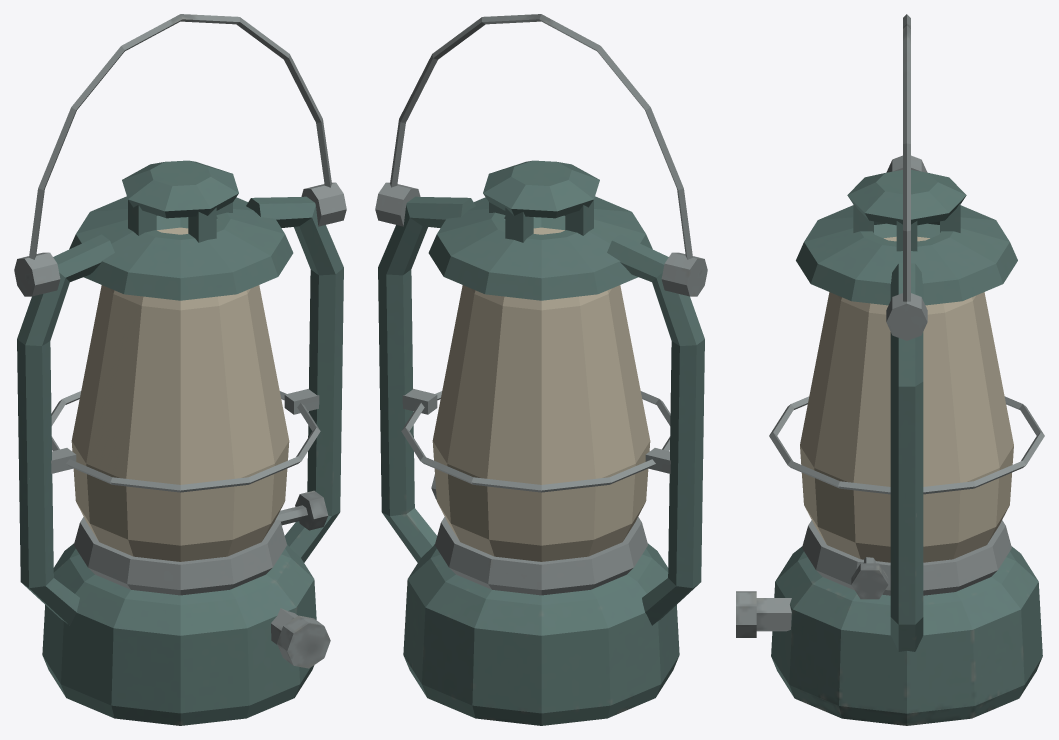
File: lake_lantern_off.glb
3 views of the same model, side by side, from view 1: azimuth 30°, elevation 25°; view 2: azimuth 150°, elevation 25°; view 3: azimuth 270°, elevation 25° (orthographic).
Visible parts, largest first — view 1: Lantern; view 2: Lantern; view 3: Lantern.
Part boxes in pixels (x1=…): Lantern: x1=14, y1=14, x2=346, y2=725; Lantern: x1=375, y1=14, x2=707, y2=725; Lantern: x1=736, y1=14, x2=1044, y2=725.
Size of the model in its own units: 0.1758 by 0.35 by 0.15.
Materials: 2 (1 with a texture image).
